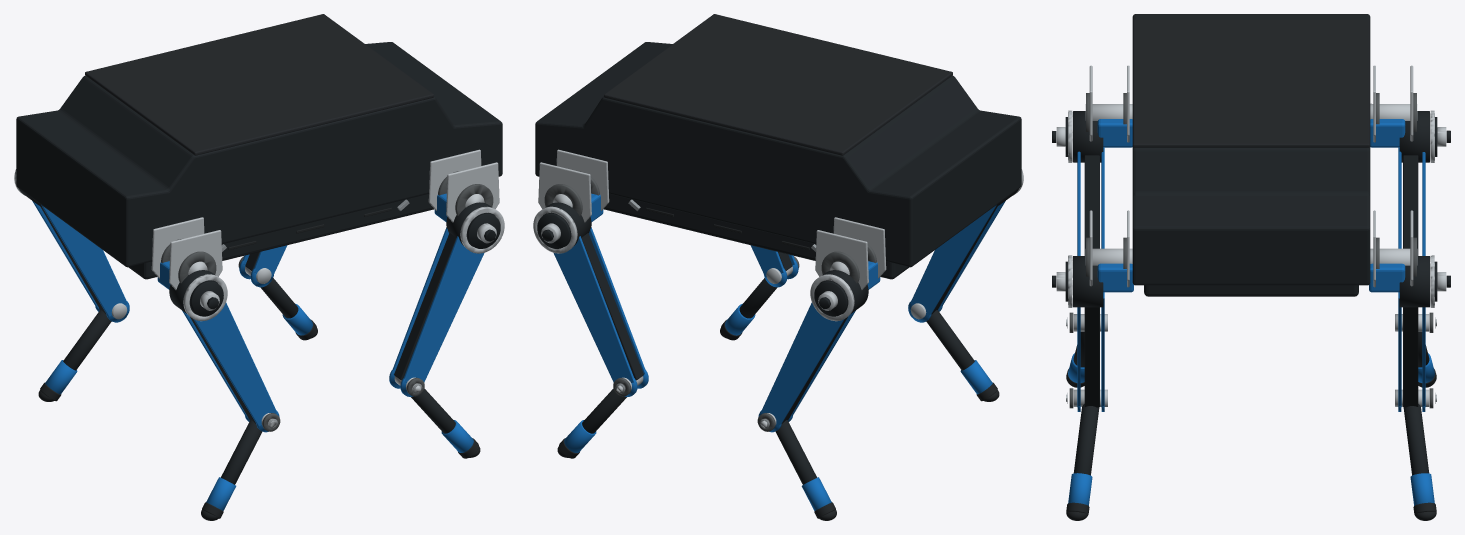
File: quadruped-robot.glb
3 renders of one model, left to right at view 1: azimuth 30°, elevation 25°; view 2: azimuth 150°, elevation 25°; view 3: azimuth 270°, elevation 25°, orthographic. The views are drawn at different scales.
Visible parts, largest first — view 1: Chassis_mesh, Thigh_RR_mesh, Thigh_FR_mesh, Bracket_FR_mesh, Bracket_RR_mesh, Thigh_FL_mesh, Shin_FR_mesh, Shin_FL_mesh, Shin_RR_mesh, Shin_RL_mesh, Thigh_RL_mesh; view 2: Chassis_mesh, Thigh_RL_mesh, Thigh_FL_mesh, Bracket_FL_mesh, Bracket_RL_mesh, Thigh_FR_mesh, Shin_FL_mesh, Shin_FR_mesh, Shin_RL_mesh, Shin_RR_mesh, Thigh_RR_mesh; view 3: Chassis_mesh, Bracket_RL_mesh, Bracket_RR_mesh, Thigh_RL_mesh, Thigh_RR_mesh, Bracket_FL_mesh, Thigh_FL_mesh, Bracket_FR_mesh, Thigh_FR_mesh, Shin_RL_mesh, Shin_RR_mesh, Shin_FL_mesh (+1 smaller).
Boxes of the visible parts, left/top/right/bottom form: Chassis_mesh: left=16, top=14, right=502, bottom=279; Thigh_RR_mesh: left=389, top=206, right=504, bottom=396; Thigh_FR_mesh: left=182, top=274, right=280, bottom=432; Bracket_FR_mesh: left=151, top=217, right=222, bottom=314; Bracket_RR_mesh: left=428, top=149, right=499, bottom=246; Thigh_FL_mesh: left=14, top=169, right=129, bottom=322; Shin_FR_mesh: left=201, top=420, right=262, bottom=520; Shin_FL_mesh: left=38, top=310, right=111, bottom=401; Shin_RR_mesh: left=411, top=388, right=480, bottom=458; Shin_RL_mesh: left=260, top=278, right=317, bottom=340; Thigh_RL_mesh: left=238, top=245, right=287, bottom=287; Chassis_mesh: left=535, top=14, right=1021, bottom=279; Thigh_RL_mesh: left=533, top=206, right=648, bottom=396; Thigh_FL_mesh: left=757, top=274, right=855, bottom=432; Bracket_FL_mesh: left=815, top=217, right=886, bottom=314; Bracket_RL_mesh: left=538, top=149, right=609, bottom=246; Thigh_FR_mesh: left=908, top=169, right=1023, bottom=322; Shin_FL_mesh: left=775, top=420, right=836, bottom=520; Shin_FR_mesh: left=926, top=310, right=999, bottom=401; Shin_RL_mesh: left=557, top=388, right=626, bottom=458; Shin_RR_mesh: left=720, top=278, right=777, bottom=340; Thigh_RR_mesh: left=750, top=245, right=799, bottom=287; Chassis_mesh: left=1132, top=14, right=1370, bottom=296; Bracket_RL_mesh: left=1369, top=210, right=1429, bottom=307; Bracket_RR_mesh: left=1073, top=210, right=1133, bottom=307; Thigh_RL_mesh: left=1395, top=255, right=1450, bottom=411; Thigh_RR_mesh: left=1052, top=255, right=1107, bottom=411; Bracket_FL_mesh: left=1370, top=65, right=1429, bottom=162; Thigh_FL_mesh: left=1395, top=110, right=1450, bottom=332; Bracket_FR_mesh: left=1073, top=65, right=1132, bottom=162; Thigh_FR_mesh: left=1052, top=110, right=1107, bottom=332; Shin_RL_mesh: left=1403, top=404, right=1436, bottom=520; Shin_RR_mesh: left=1066, top=404, right=1099, bottom=520; Shin_FL_mesh: left=1418, top=331, right=1436, bottom=387.
Bounding box in the file's own units: 1.28 × 1.12 × 1.09.
